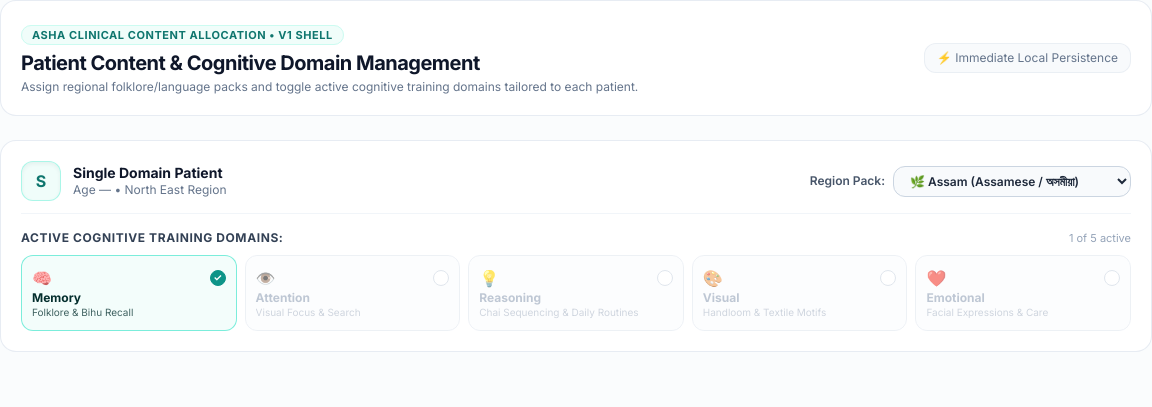
Scenario: V1 ASHA Content & Cognitive Domain Management Suite › 4. Validation Guard: Prevents deselecting all 5 domains and displays a warning
Attempt to deselect the last remaining domain
Click the button with aria-label "Toggle Memory for Single Domain Patient".
click(129, 292)  # box top-left (21, 254), bottom-right (237, 330)
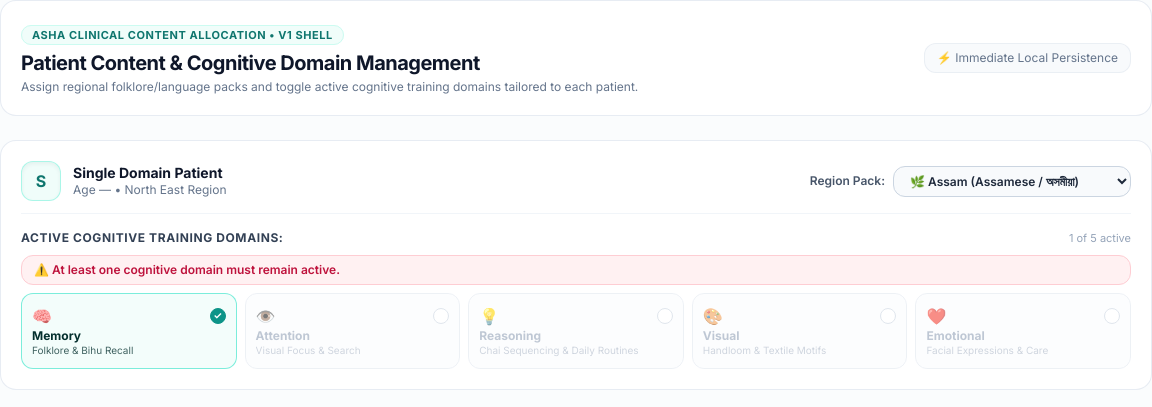
Result: the text "⚠️ At least one cognitive domain must remain active." is shown at top-left (21, 254), bottom-right (1131, 284)
